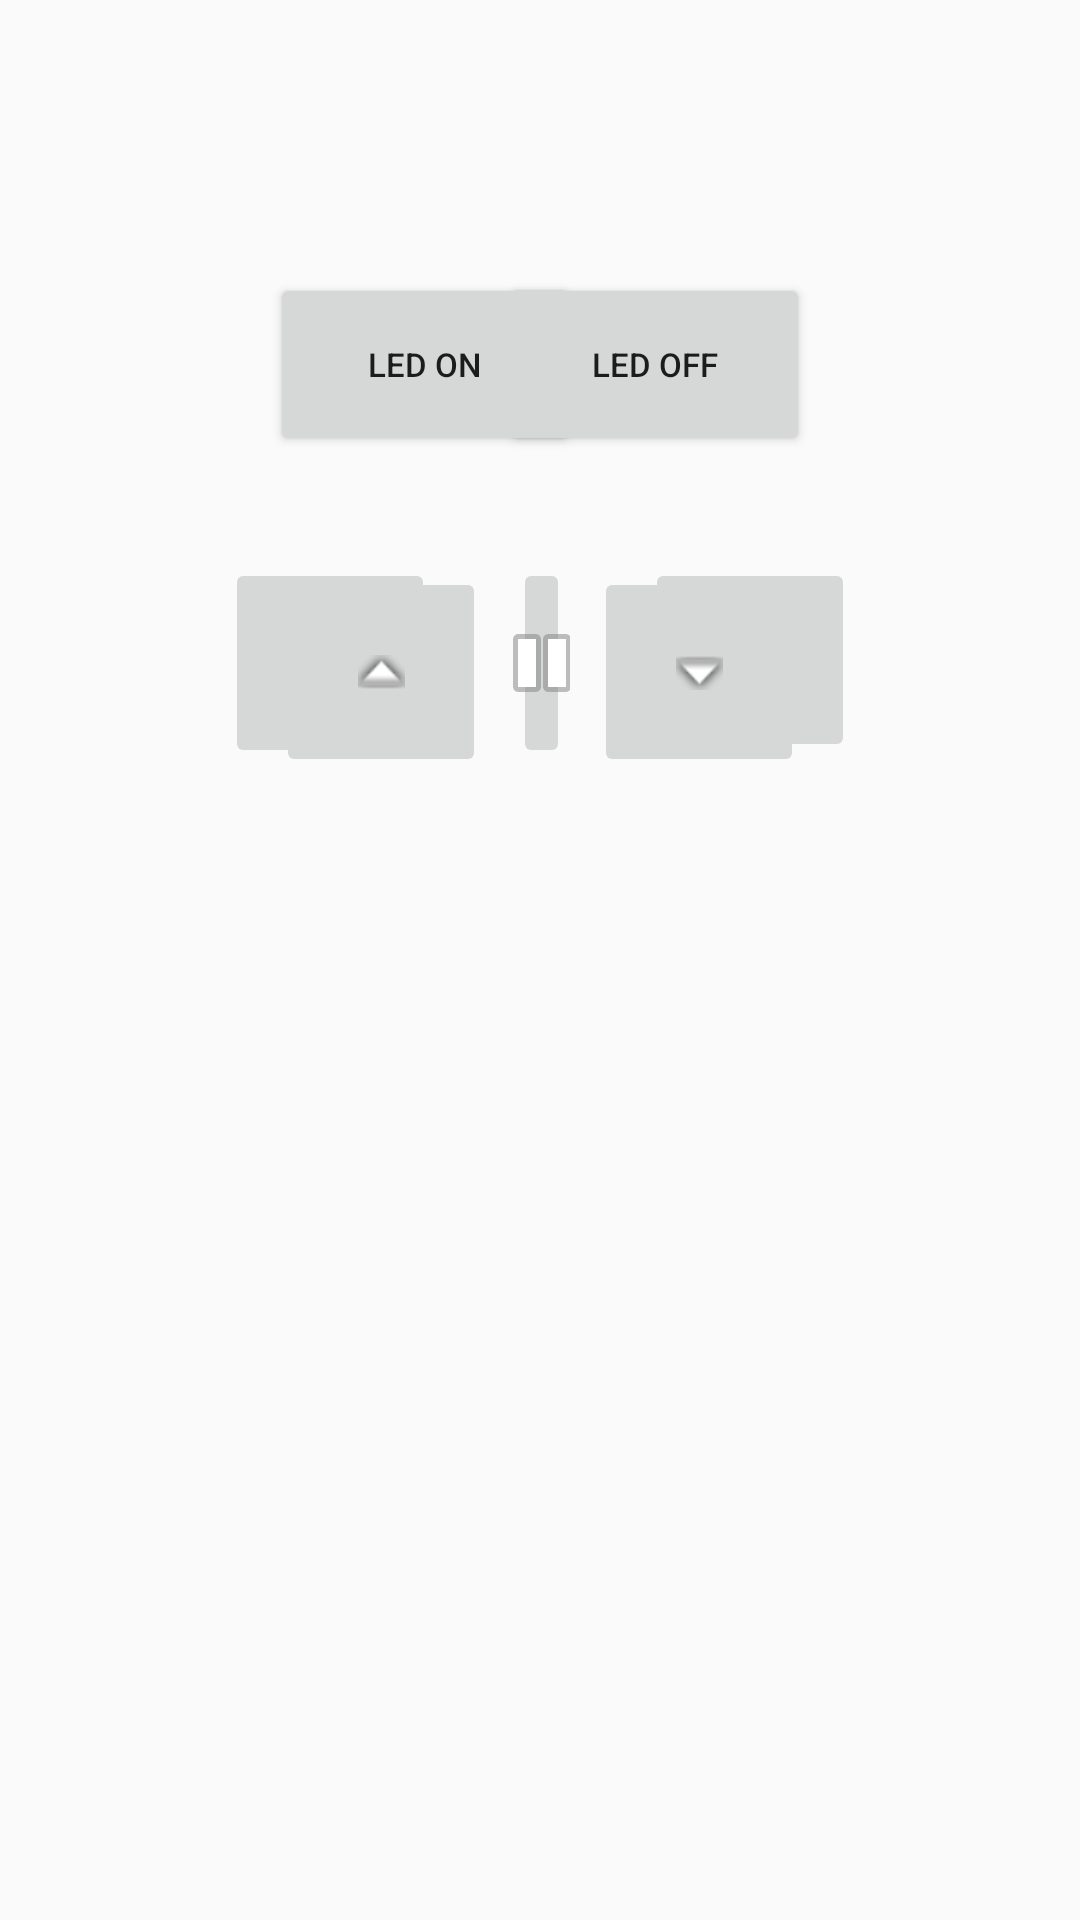

Named icons in this screenshot (1080px×1920px) and their centers, (x,y):
arrow down float: (705,667)
pause: (541,663)
